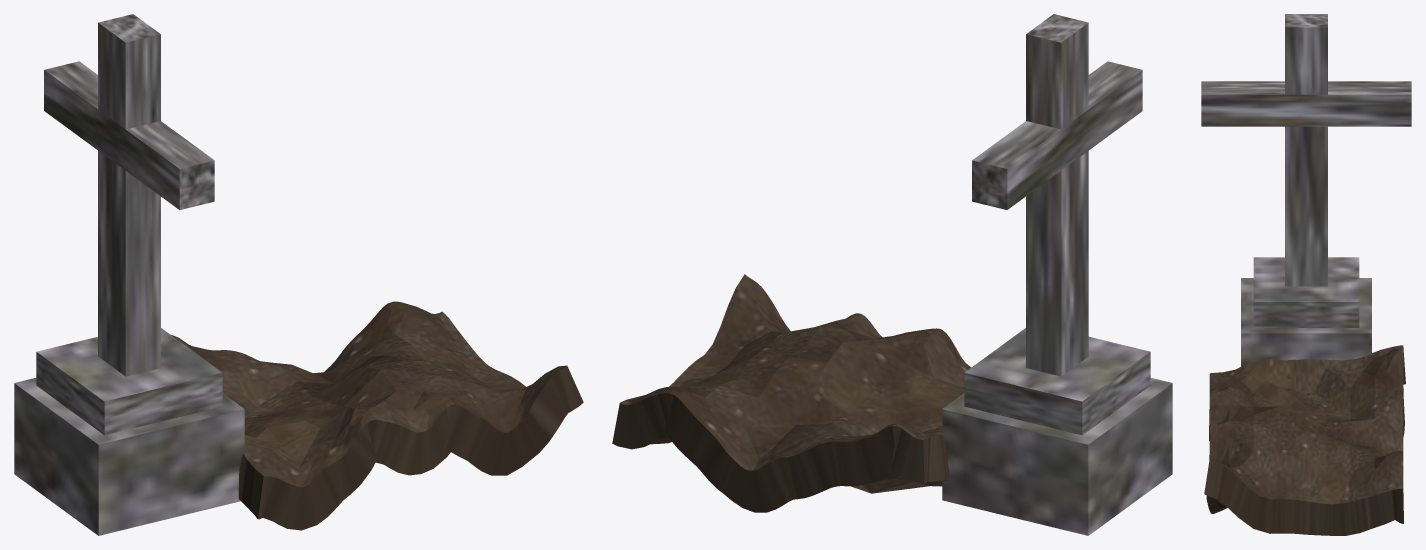
File: GRAVE2.glb
3 views of the same model, side by side, from view 1: azimuth 30°, elevation 25°; view 2: azimuth 150°, elevation 25°; view 3: azimuth 270°, elevation 25° (orthographic). The views are drawn at different scales.
Visible parts, largest first — view 1: Cube.002, Plane; view 2: Cube.002, Plane; view 3: Plane, Cube.002.
Part boxes in pixels (x1,y1,x2,y2): Cube.002: (14, 14, 244, 535); Plane: (171, 301, 583, 530); Cube.002: (942, 14, 1172, 535); Plane: (612, 274, 971, 512); Plane: (1204, 345, 1405, 535); Cube.002: (1201, 14, 1411, 367).
Size of the model in its own units: 6.57 by 6.79 by 3.34.
Materials: 2 (2 with a texture image).
